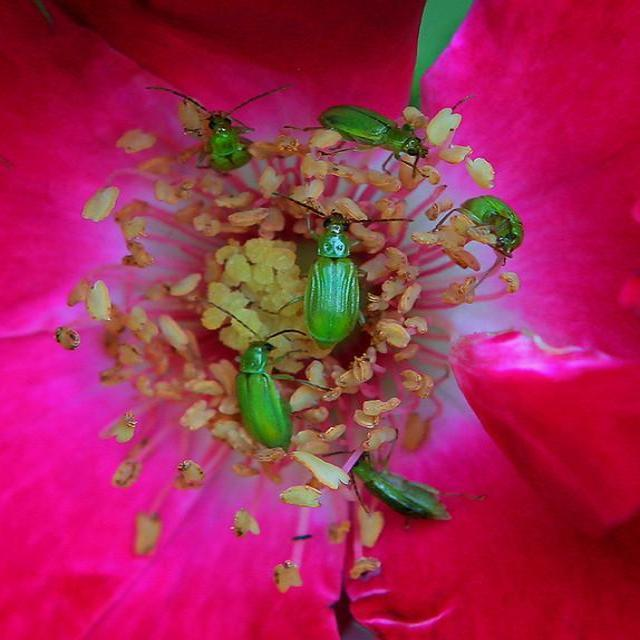gusano_gris: (272, 187, 413, 353), (193, 296, 304, 452), (320, 88, 480, 180), (150, 82, 297, 174), (349, 448, 446, 524), (434, 191, 526, 256)
